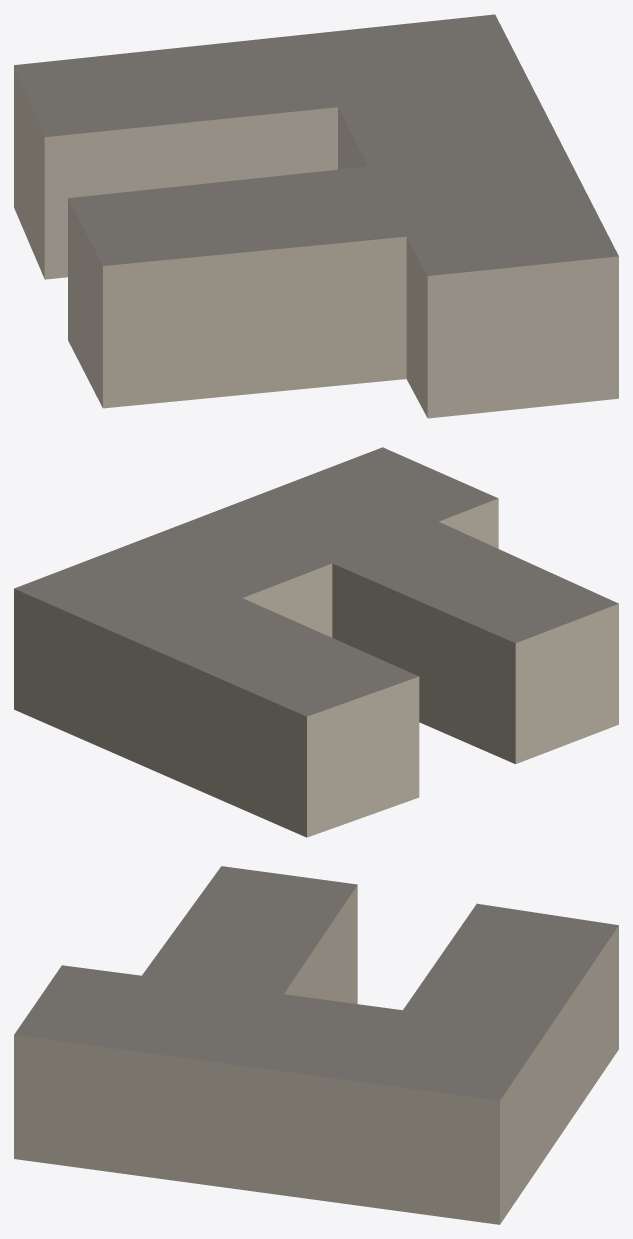
The picture shows the model from 3 angles, top to bottom: view 1: azimuth 30°, elevation 25°; view 2: azimuth 150°, elevation 25°; view 3: azimuth 270°, elevation 25°; orthographic projection. The views are drawn at different scales.
Parts seen in each view (by area): view 1: HP-w505636147; view 2: HP-w505636147; view 3: HP-w505636147.
Part boxes in pixels (x1=…): HP-w505636147: x1=14, y1=14, x2=618, y2=418; HP-w505636147: x1=14, y1=447, x2=618, y2=837; HP-w505636147: x1=14, y1=866, x2=618, y2=1224.
Size of the model in its own units: 48.69 by 12 by 53.03.
